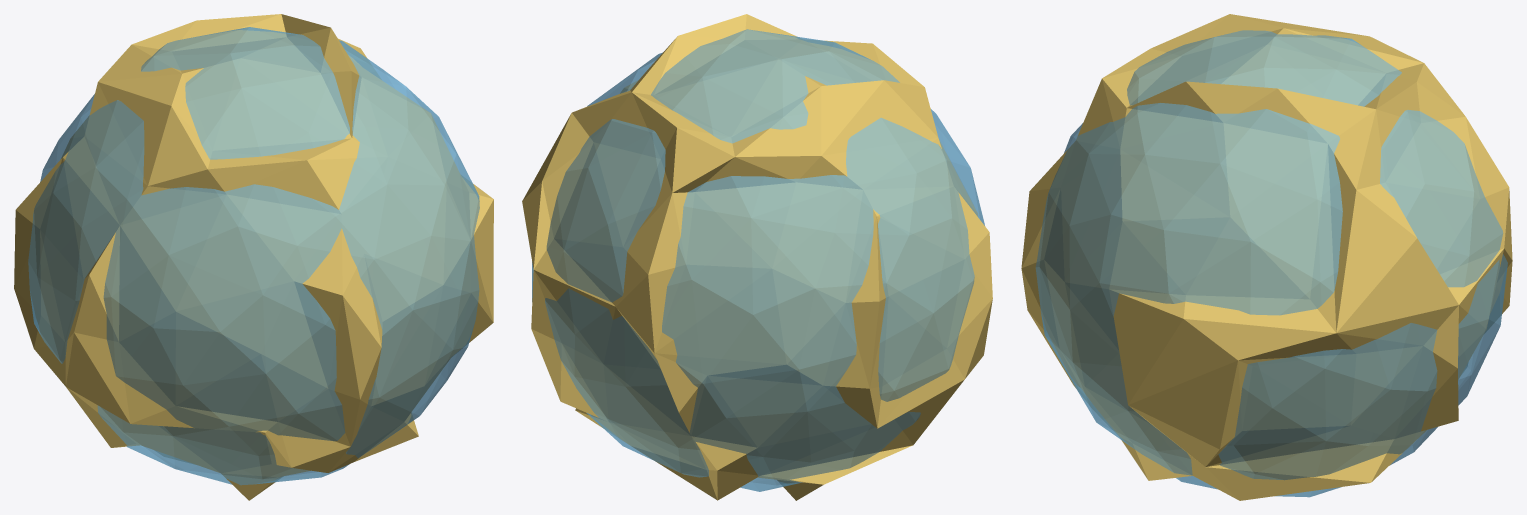
The model's file is water_planet3.fbx.
3 views of the same model, side by side, from view 1: azimuth 30°, elevation 25°; view 2: azimuth 150°, elevation 25°; view 3: azimuth 270°, elevation 25° (orthographic). The views are drawn at different scales.
Parts seen in each view (by area): view 1: water_planet3; view 2: water_planet3; view 3: water_planet3.
Part boxes in pixels (bbox=[...]): water_planet3: bbox=[14, 14, 493, 500]; water_planet3: bbox=[522, 14, 992, 500]; water_planet3: bbox=[1021, 14, 1512, 500].
Size of the model in its own units: 200 by 191 by 198.
